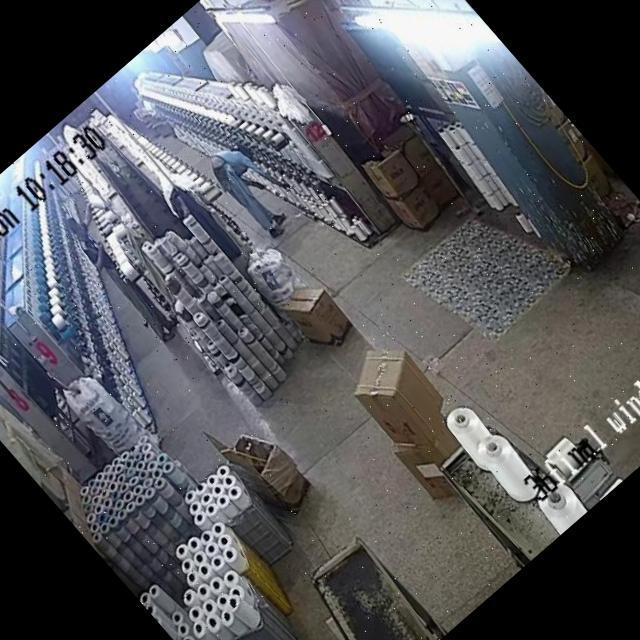person: (64, 216, 179, 345), (203, 136, 297, 236)
